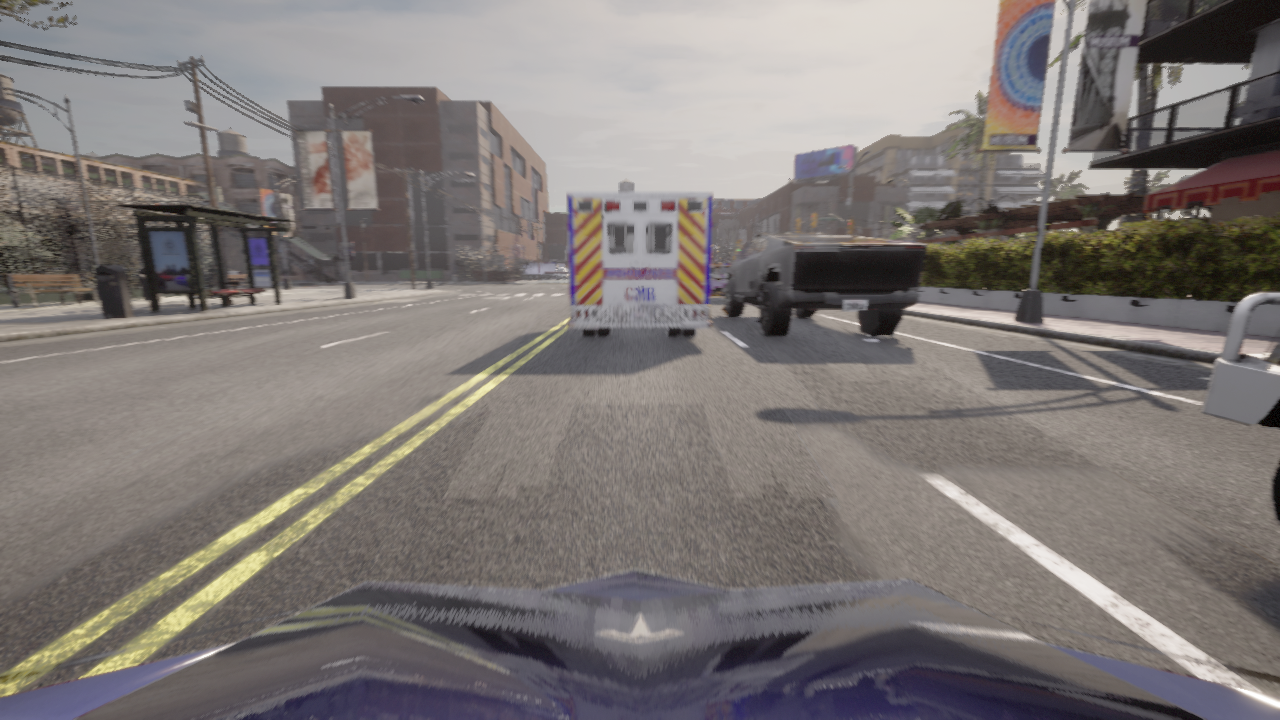cyclist: (0, 569, 1279, 719), (722, 233, 926, 336), (567, 192, 712, 336), (1200, 291, 1279, 521), (526, 262, 567, 279), (711, 264, 730, 295), (542, 264, 568, 278), (126, 267, 140, 283), (42, 265, 58, 274), (82, 272, 93, 282)
